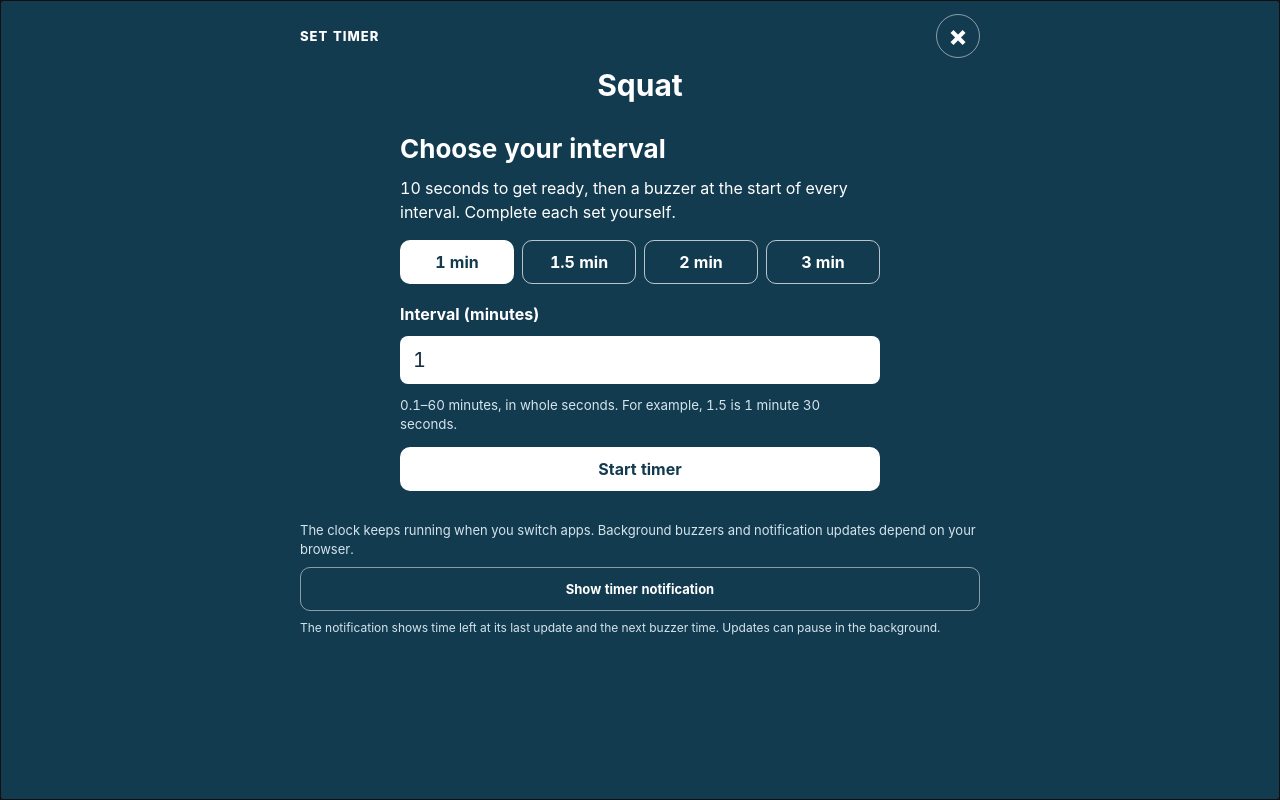
keeps counting and explains a denied notification permission
The width and height of the screenshot is (1280, 800).
Click the button "Start timer".
click(640, 470)  # box [400, 448, 880, 492]
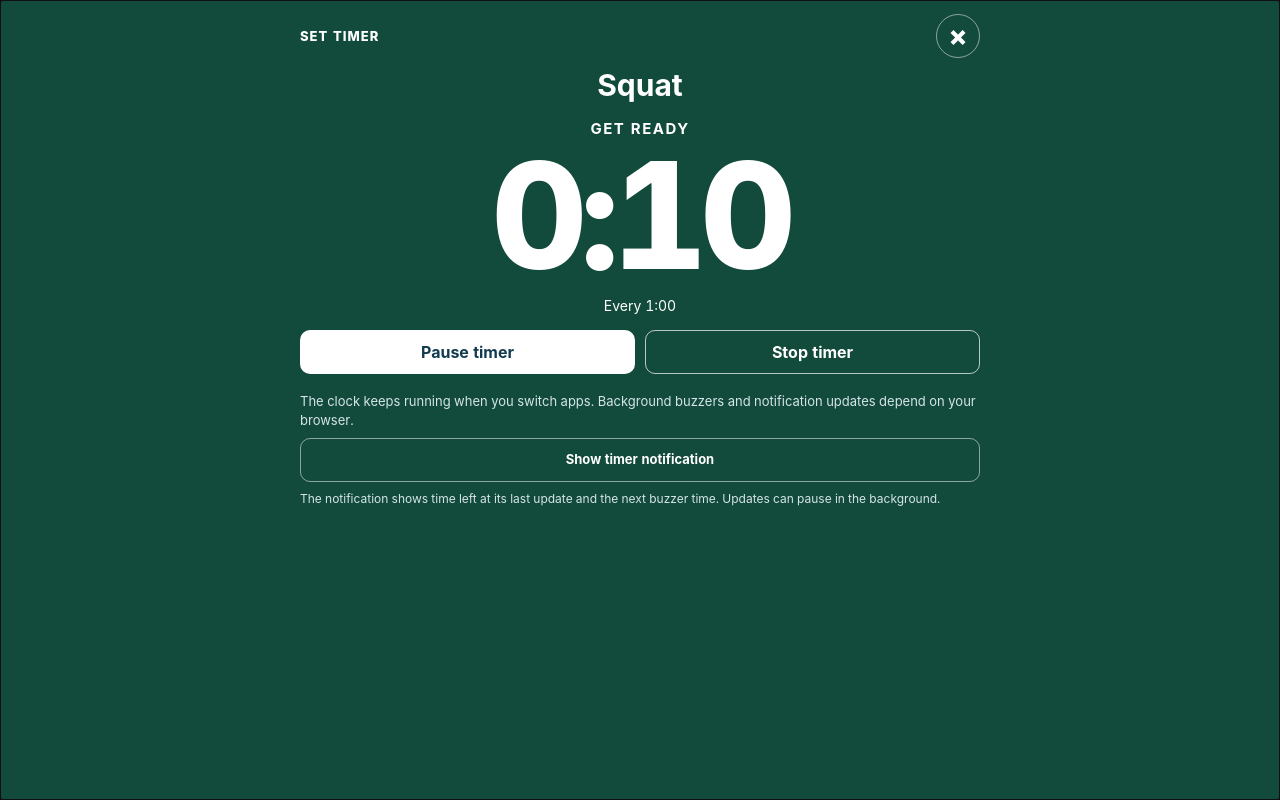
Click the button "Show timer notification".
click(640, 460)  # box [300, 438, 980, 482]
Wait 17000 ms
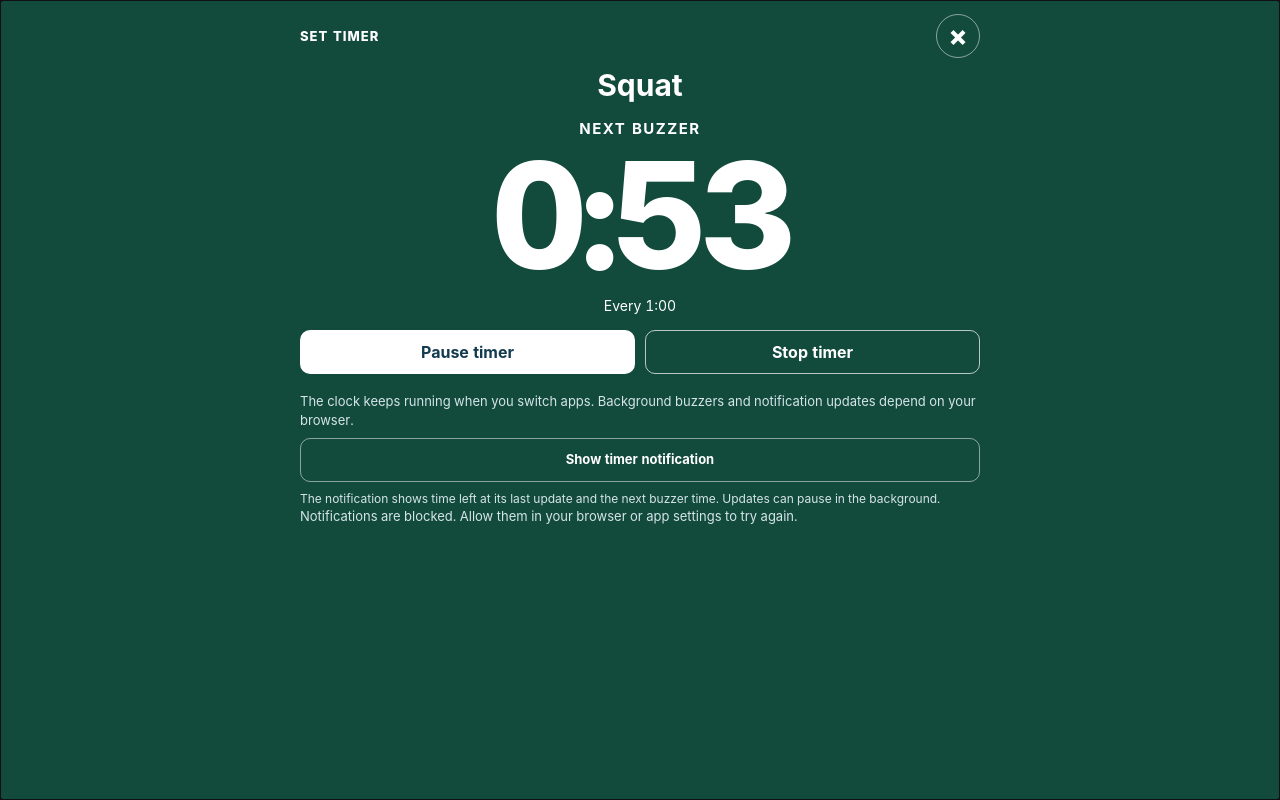
Now the button "Pause timer" is shown, box [300, 330, 635, 374]
Now the text "Notifications are blocked" is shown, box [300, 508, 798, 524]
